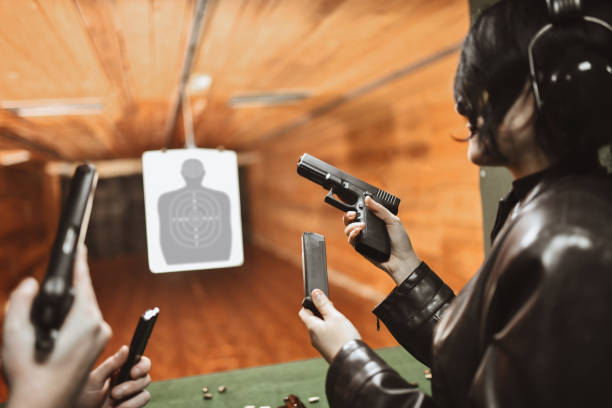gun: (27, 161, 100, 362), (295, 150, 400, 263)
